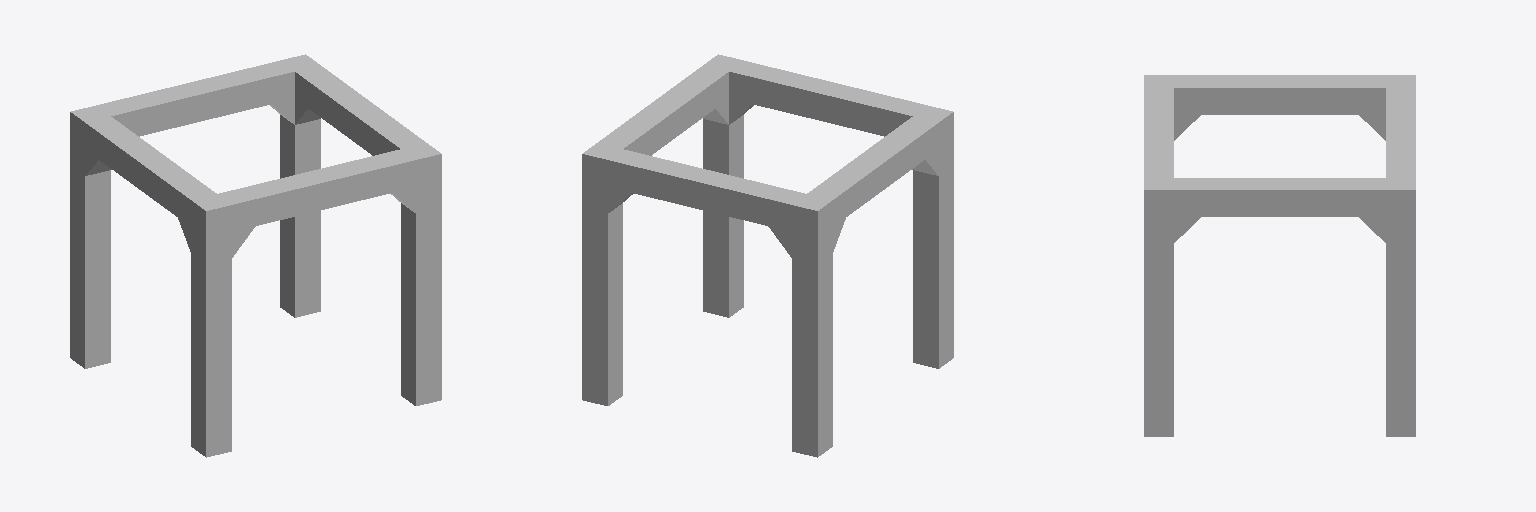
The model's file is spaceInterior_064.obj.
3 views of the same model, side by side, from view 1: azimuth 30°, elevation 25°; view 2: azimuth 150°, elevation 25°; view 3: azimuth 270°, elevation 25° (orthographic).
Parts seen in each view (by area): view 1: Mesh1 Group1 Model; view 2: Mesh1 Group1 Model; view 3: Mesh1 Group1 Model.
Boxes of the visible parts, box(x1,y1,x2,y2) form: Mesh1 Group1 Model: box(70, 54, 441, 457); Mesh1 Group1 Model: box(582, 54, 953, 457); Mesh1 Group1 Model: box(1144, 75, 1415, 436).
Bounding box in the file's own units: 1 × 1 × 1.